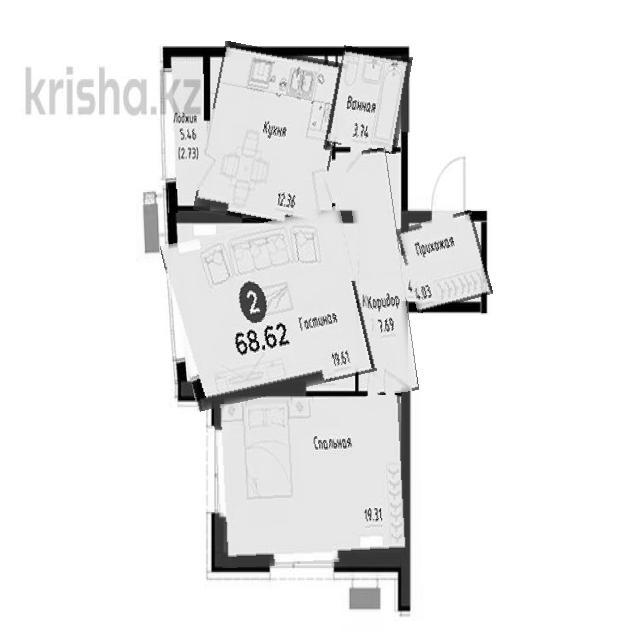balcony: (166, 49, 209, 213)
bathroom: (332, 47, 409, 152)
hallway: (352, 148, 411, 395), (401, 214, 489, 309)
kitchen: (200, 46, 342, 228)
living_room: (168, 215, 369, 403), (215, 397, 406, 566)
